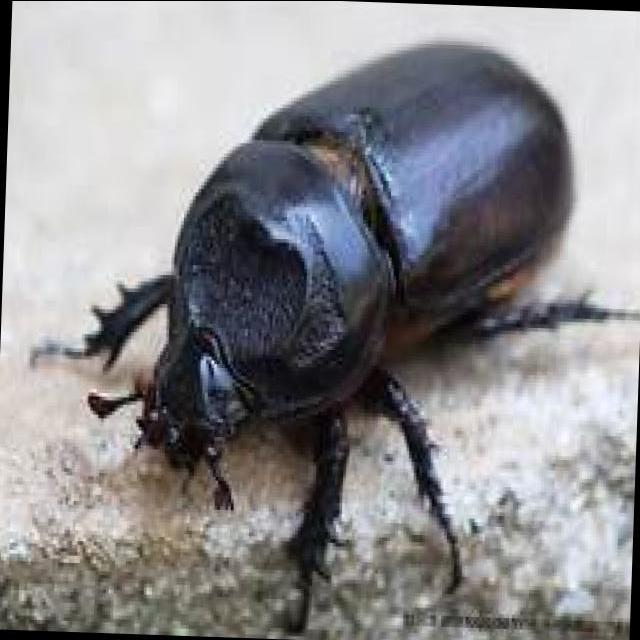Rhino-beetle: (125, 18, 606, 594)
